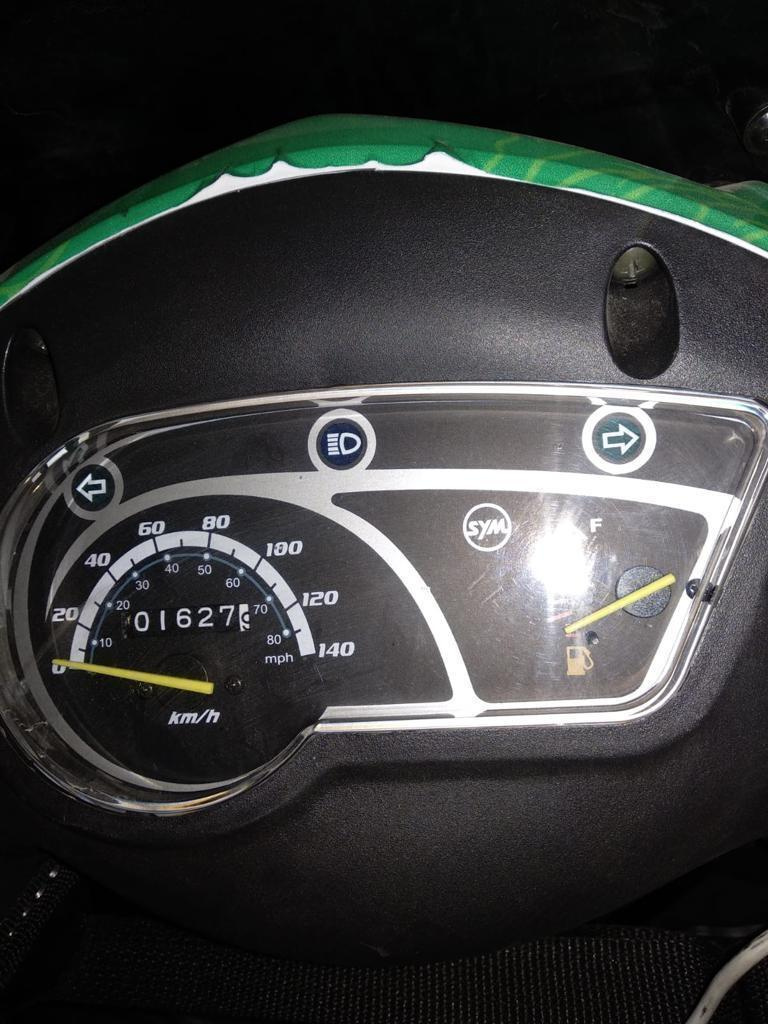0: (133, 609, 151, 633), (123, 600, 130, 610)
1: (158, 605, 168, 633)
2: (196, 605, 214, 631)
6: (174, 607, 193, 631)
7: (218, 603, 235, 628)
9: (239, 609, 253, 635)
odometer: (122, 601, 256, 637)
